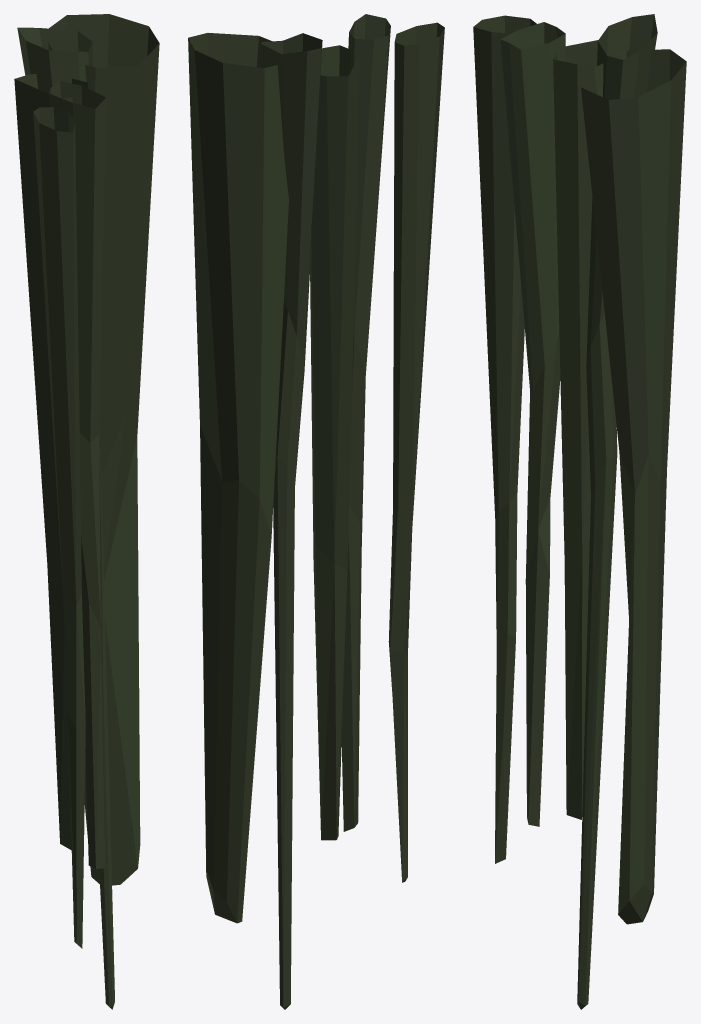
The model's file is EA_Swamp_Liana_03a.glb.
3 views of the same model, side by side, from view 1: azimuth 30°, elevation 25°; view 2: azimuth 150°, elevation 25°; view 3: azimuth 270°, elevation 25° (orthographic). The views are drawn at different scales.
Parts seen in each view (by area): view 1: EA_Swamp_Liana_03a; view 2: EA_Swamp_Liana_03a; view 3: EA_Swamp_Liana_03a.
Part boxes in pixels (x1,y1,x2,y2): EA_Swamp_Liana_03a: [14, 14, 159, 1009]; EA_Swamp_Liana_03a: [188, 14, 444, 1009]; EA_Swamp_Liana_03a: [473, 14, 686, 1009].
Size of the model in its own units: 0.5209 by 2.73 by 0.5459.
Materials: 1 (1 with a texture image).
